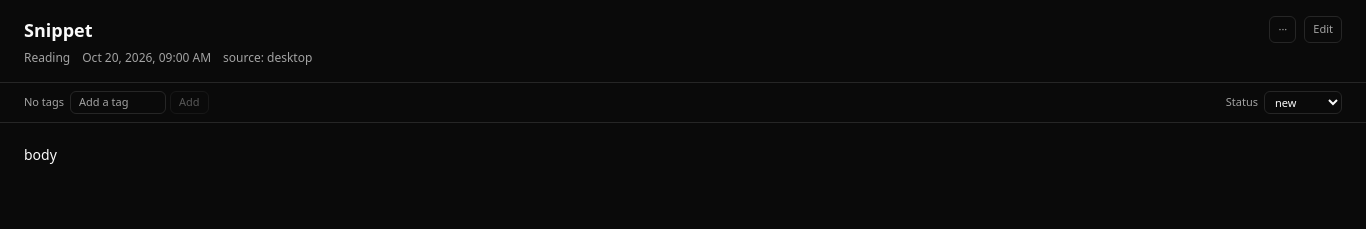
NoteViewer child keys › keeps its keys distinct while the actions panel is open
Click the button named "Note actions" at (1283, 29), box [1269,16,1296,42]
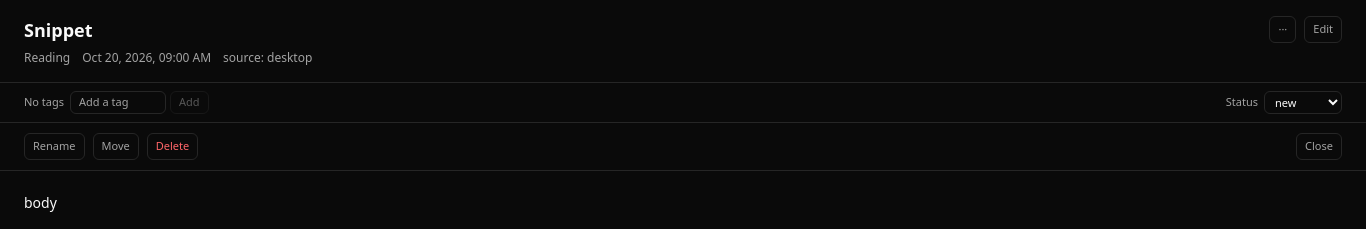
Expected: the element named "File operations" is shown, [0,123,1365,170]
